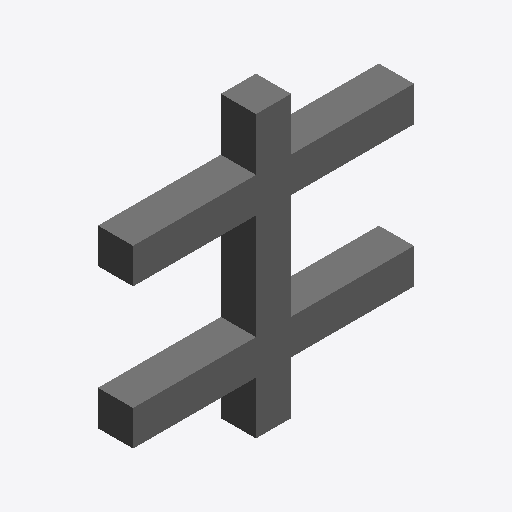
Isometric view (azimuth 45°, elevation 35.3°) of a Minecraft model made of 5 cuboids, textured from the same repository.
Visible parts, largest first — element 1, element 3, element 2, element 5, element 4.
Part boxes in pixels (x1,y1,x2,y2): element 1: (221,74,290,437); element 3: (98,155,255,285); element 2: (98,317,255,447); element 5: (291,226,413,356); element 4: (291,64,413,194).
Bounding box in the file's own units: 16 × 16 × 2.